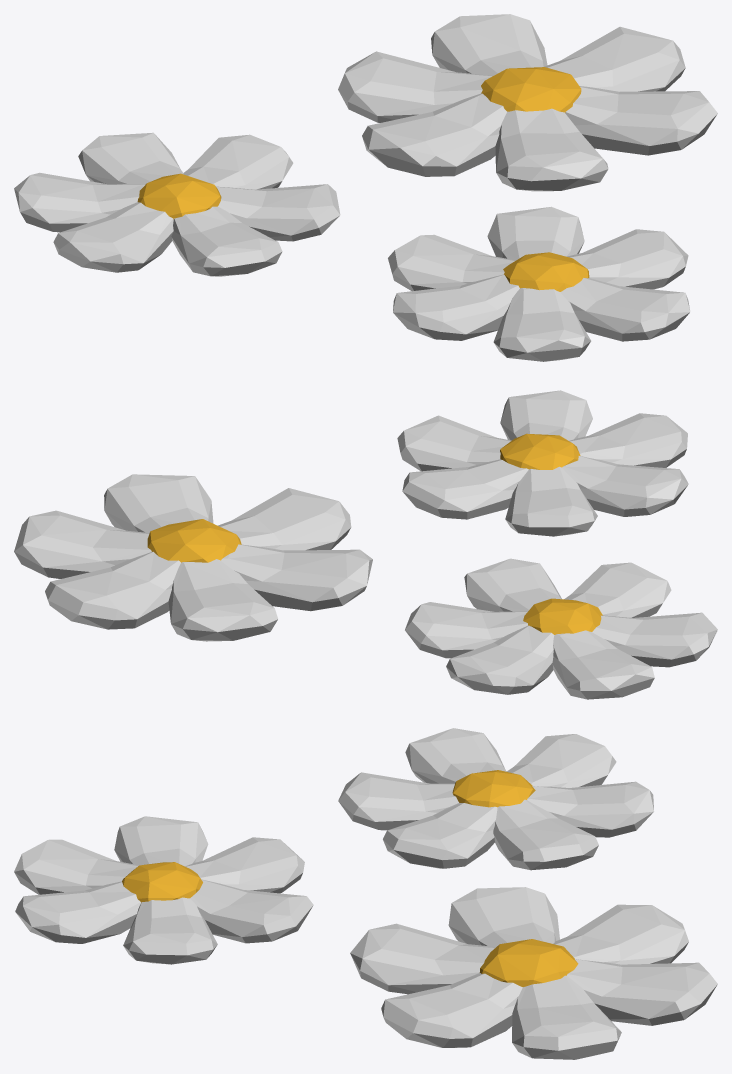
The model's file is flowers_1.glb.
3 views of the same model, one above another, from view 1: azimuth 30°, elevation 25°; view 2: azimuth 150°, elevation 25°; view 3: azimuth 270°, elevation 25° (orthographic). The views are drawn at different scales.
Parts seen in each view (by area): view 1: Icosphere.003; view 2: Icosphere.003; view 3: Icosphere.003.
Part boxes in pixels (x1,y1,x2,y2): Icosphere.003: (14,14,717,361); Icosphere.003: (14,390,717,699); Icosphere.003: (14,728,717,1059).
Size of the model in its own units: 0.8619 by 0.068 by 0.809.
